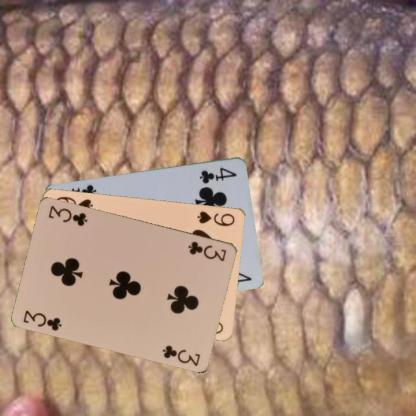3c: (20, 307, 64, 332), (186, 238, 228, 262)
4c: (197, 162, 238, 184)
9s: (194, 208, 236, 227)
